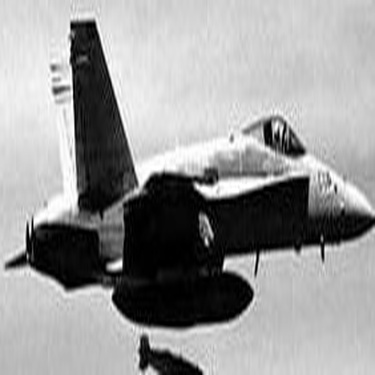airplane: (1, 2, 371, 330), (125, 334, 210, 373)
